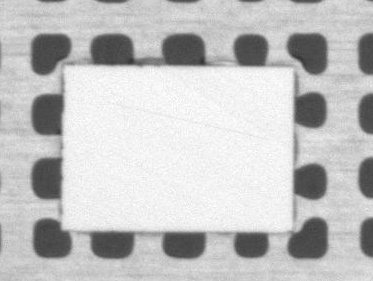DIE_CRACK: (142, 77, 356, 105)
